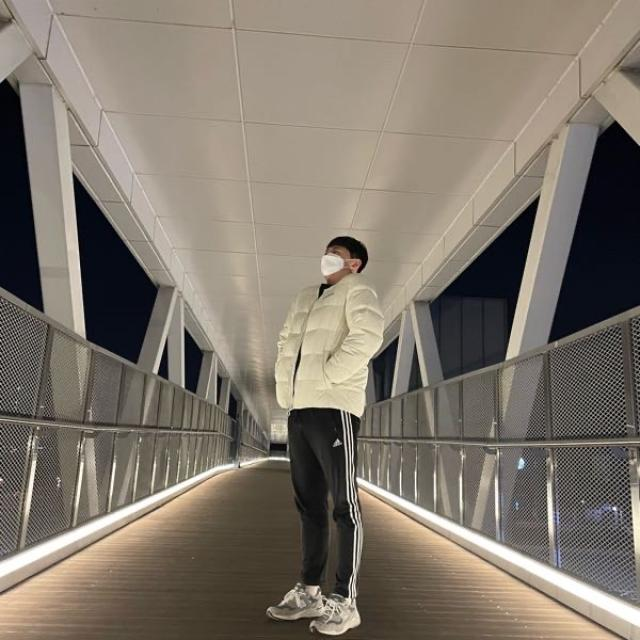padding: (277, 277, 383, 418)
trainingpants: (285, 404, 366, 600)
